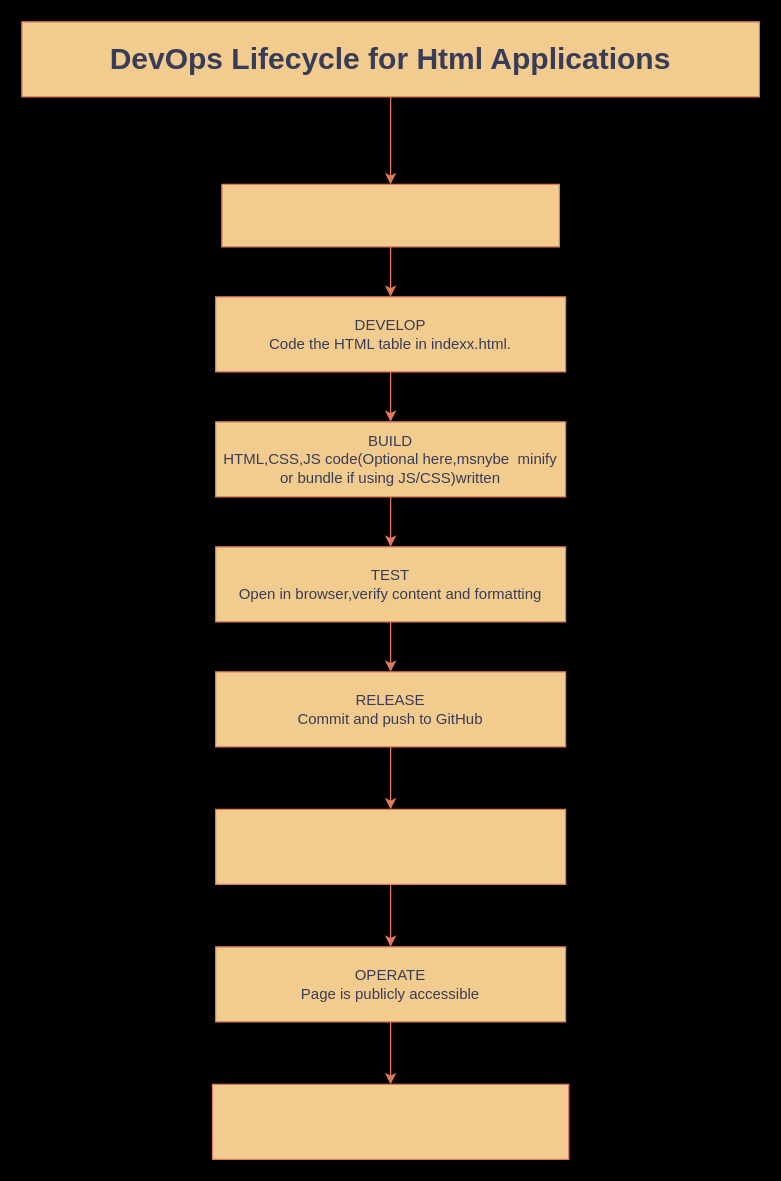
The diagram is 781 pixels wide and 1181 high, and some of its shapes have lost their labels. The shapes that lost their labels are listed below. From the top down, each one's centre as x and y in pixels, then its label:
(390,215): PLAN Decide to create an HTML page showing user data.
(390,846): DEPLOY Host it using GitHub pages or a cloud service
(390,1121): MONITOR Use Google Analytics or uptime monitoring tools.
